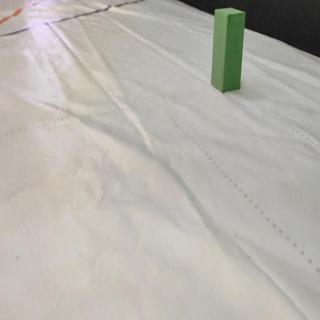greenbox: (211, 7, 247, 92)
